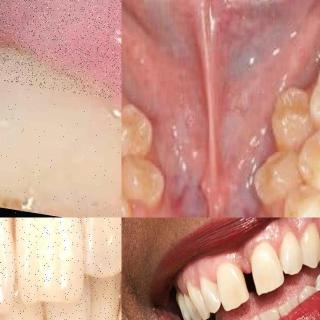Gum Swelling: (0, 0, 122, 188)
maligned: (266, 79, 317, 151), (248, 141, 303, 203), (121, 142, 161, 204), (84, 260, 122, 320), (122, 101, 154, 157)
